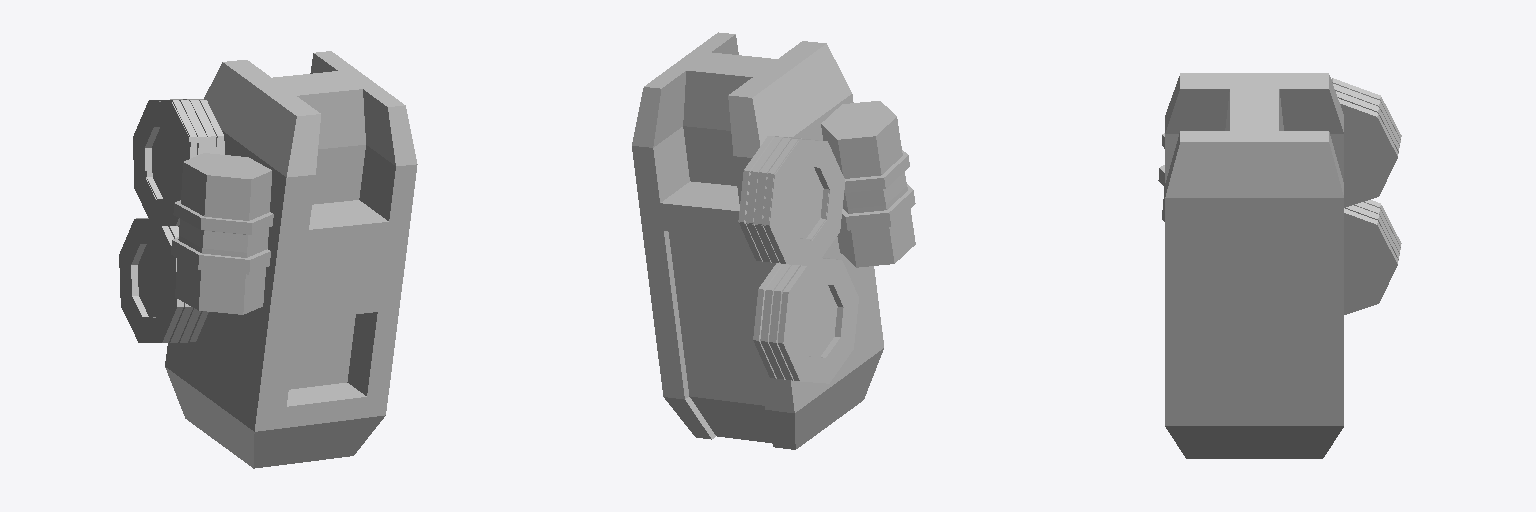
File: L_LegFo.obj
3 renders of one model, left to right at view 1: azimuth 30°, elevation 25°; view 2: azimuth 150°, elevation 25°; view 3: azimuth 270°, elevation 25°, orthographic.
Visible parts, largest first — view 1: group7 pCube70, opppk:group5 opppk:pCylinder37 group7 pasted__polySurface48, opppk:group3 opppk:pCylinder48 pasted__polySurface57 group7, opppk:group3 opppk:pCylinder48 group7 pasted__polySurface47, opppk:group3 opppk:pCylinder48 group7 pasted__polySurface58; view 2: group7 pCube70, opppk:group5 opppk:pCylinder37 group7 pasted__polySurface48, opppk:group3 opppk:pCylinder48 pasted__polySurface57 group7, opppk:group3 opppk:pCylinder48 group7 pasted__polySurface47, opppk:group3 opppk:pCylinder48 group7 pasted__polySurface58; view 3: group7 pCube70, opppk:group3 opppk:pCylinder48 group7 pasted__polySurface58, opppk:group3 opppk:pCylinder48 pasted__polySurface57 group7.
Boxes of the visible parts, x1=… form: group7 pCube70: x1=165, y1=51, x2=417, y2=468; opppk:group5 opppk:pCylinder37 group7 pasted__polySurface48: x1=171, y1=153, x2=273, y2=314; opppk:group3 opppk:pCylinder48 pasted__polySurface57 group7: x1=119, y1=218, x2=208, y2=342; opppk:group3 opppk:pCylinder48 group7 pasted__polySurface47: x1=133, y1=101, x2=217, y2=225; opppk:group3 opppk:pCylinder48 group7 pasted__polySurface58: x1=146, y1=99, x2=224, y2=199; group7 pCube70: x1=632, y1=32, x2=883, y2=449; opppk:group5 opppk:pCylinder37 group7 pasted__polySurface48: x1=821, y1=101, x2=915, y2=267; opppk:group3 opppk:pCylinder48 pasted__polySurface57 group7: x1=753, y1=258, x2=858, y2=383; opppk:group3 opppk:pCylinder48 group7 pasted__polySurface47: x1=739, y1=140, x2=844, y2=266; opppk:group3 opppk:pCylinder48 group7 pasted__polySurface58: x1=738, y1=136, x2=828, y2=261; group7 pCube70: x1=1165, y1=73, x2=1343, y2=458; opppk:group3 opppk:pCylinder48 group7 pasted__polySurface58: x1=1331, y1=78, x2=1401, y2=206; opppk:group3 opppk:pCylinder48 pasted__polySurface57 group7: x1=1344, y1=200, x2=1401, y2=314.
Size of the model in its own units: 1.62 by 2.65 by 1.64.